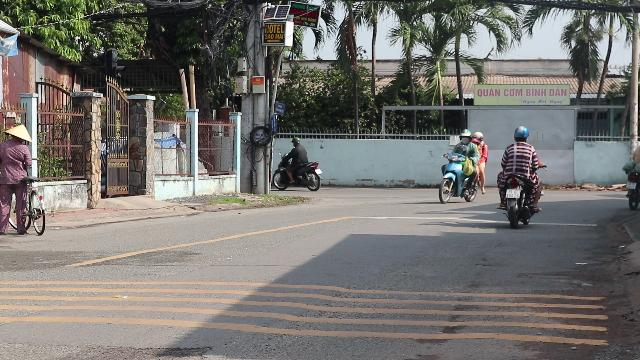helmet: (512, 126, 530, 142)
licenseplate: (506, 190, 520, 198)
motorcyclist: (0, 120, 48, 236), (493, 126, 542, 226)
nohelmet: (3, 120, 31, 144)
